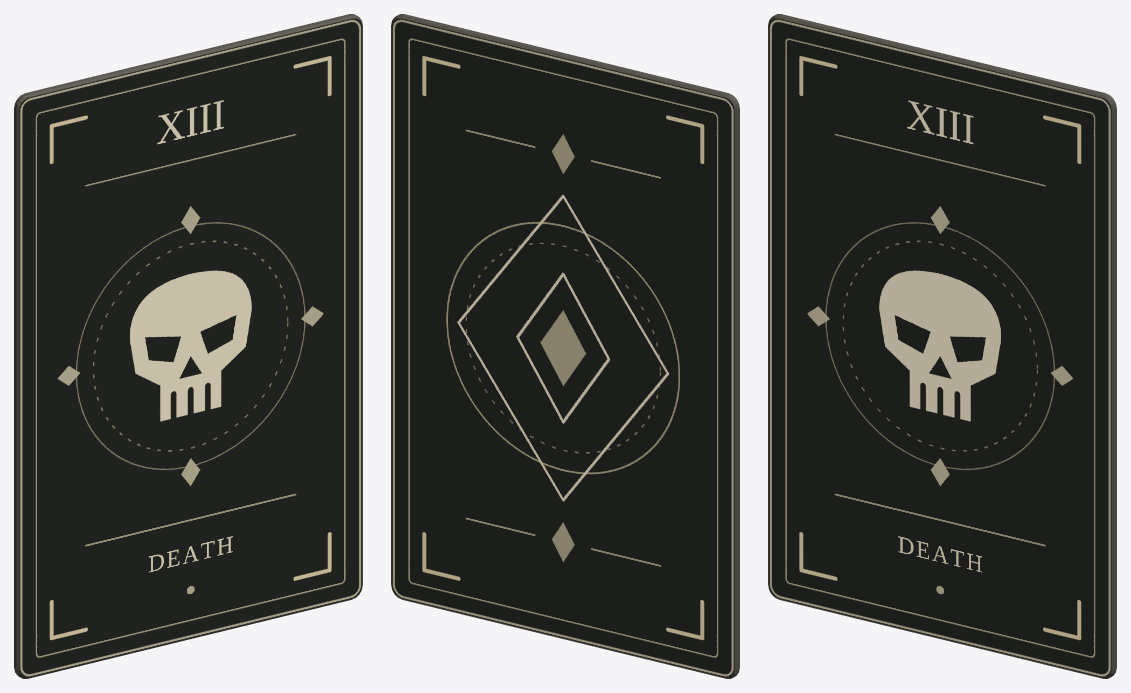
The model's file is death.glb.
3 views of the same model, side by side, from view 1: azimuth 30°, elevation 25°; view 2: azimuth 150°, elevation 25°; view 3: azimuth 330°, elevation 25° (orthographic).
Visible parts, largest first — view 1: death; view 2: death; view 3: death.
Boxes of the visible parts, x1,y1,x2,y2 form: death: (14, 14, 362, 678); death: (391, 14, 739, 678); death: (768, 14, 1116, 678).
Bounding box in the file's own units: 0.18 × 0.29 × 0.004.
3 materials, 2 textured.
